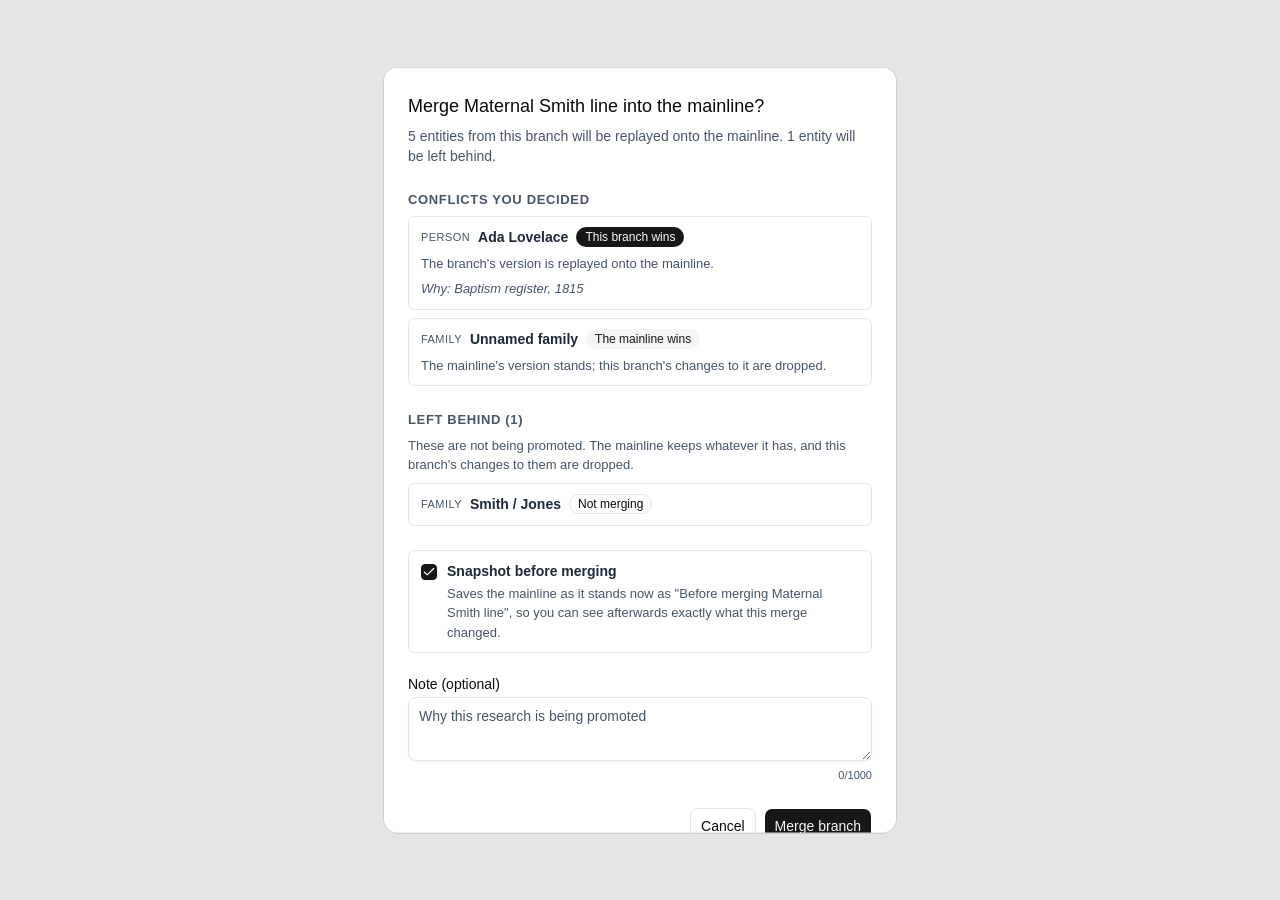
MergeConfirmDialog › refusals › merge_plan_stale renders its own copy, the server message, and a retry only when retrying is the fix
Click the button "Merge branch" at (818, 825), box 764,807 -> 872,843
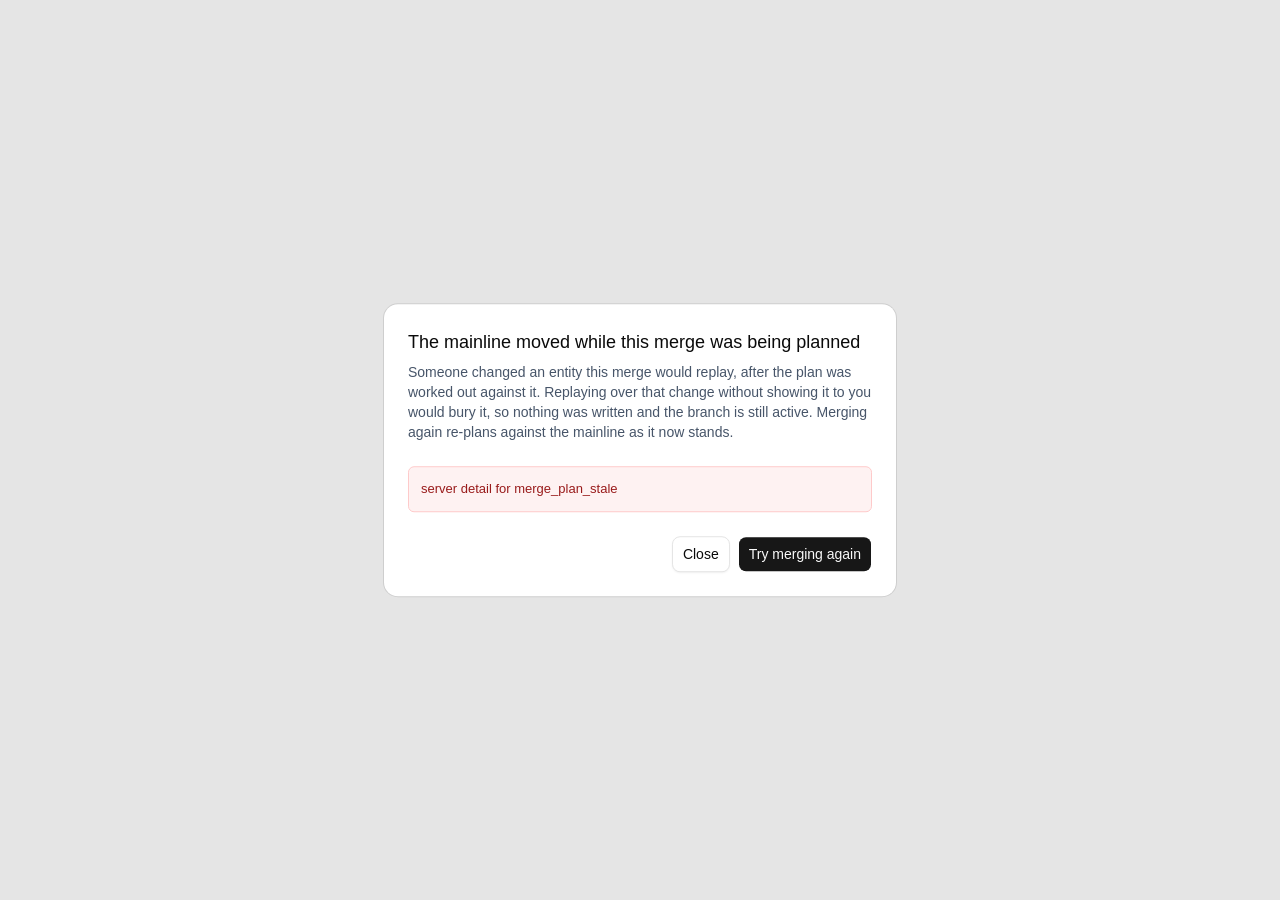
Expected: the heading "The mainline moved while this merge was being planned" is shown, 408,328 -> 860,356
Expected: the text "Someone changed an entity this merge would replay, after the plan was worked out against it. Replaying over that change " is shown, 408,364 -> 871,440
Expected: the button "Try merging again" is shown, 738,536 -> 872,572
